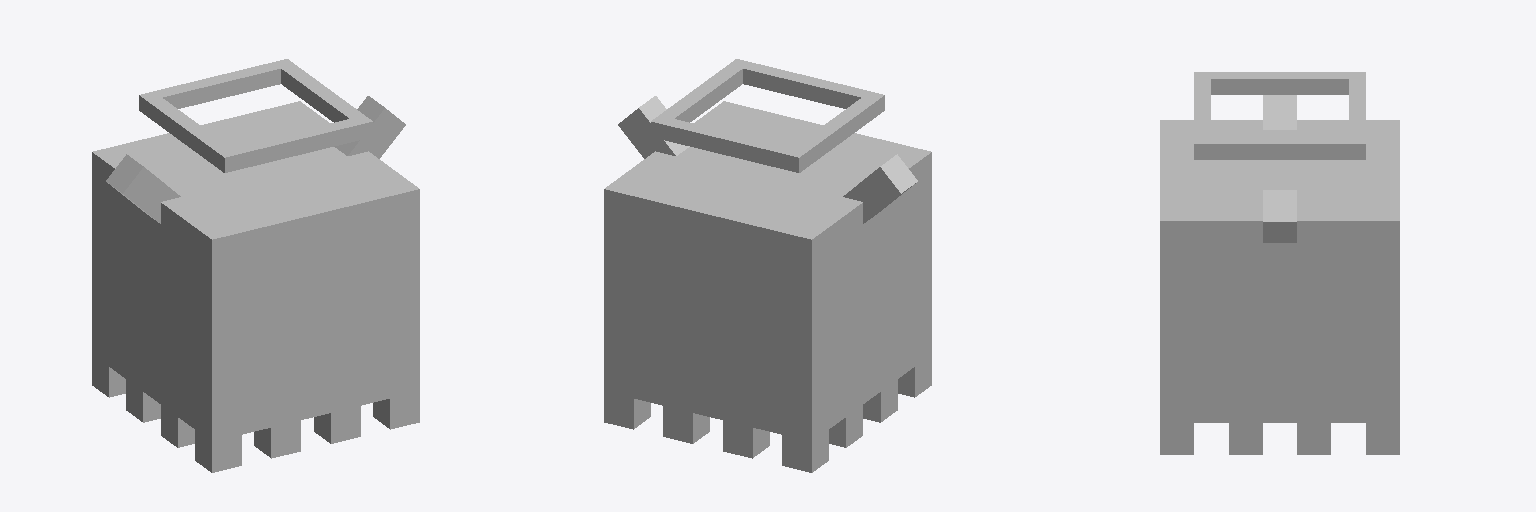
File: mobs_takodachi.obj
The picture shows the model from 3 angles: view 1: azimuth 30°, elevation 25°; view 2: azimuth 150°, elevation 25°; view 3: azimuth 270°, elevation 25°; orthographic projection.
Parts seen in each view (by area): view 1: cube; view 2: cube; view 3: cube.
Boxes of the visible parts, x1,y1,x2,y2 form: cube: [92, 59, 419, 472]; cube: [604, 59, 931, 472]; cube: [1160, 72, 1399, 454].
Size of the model in its own units: 1.19 by 1.19 by 0.875.